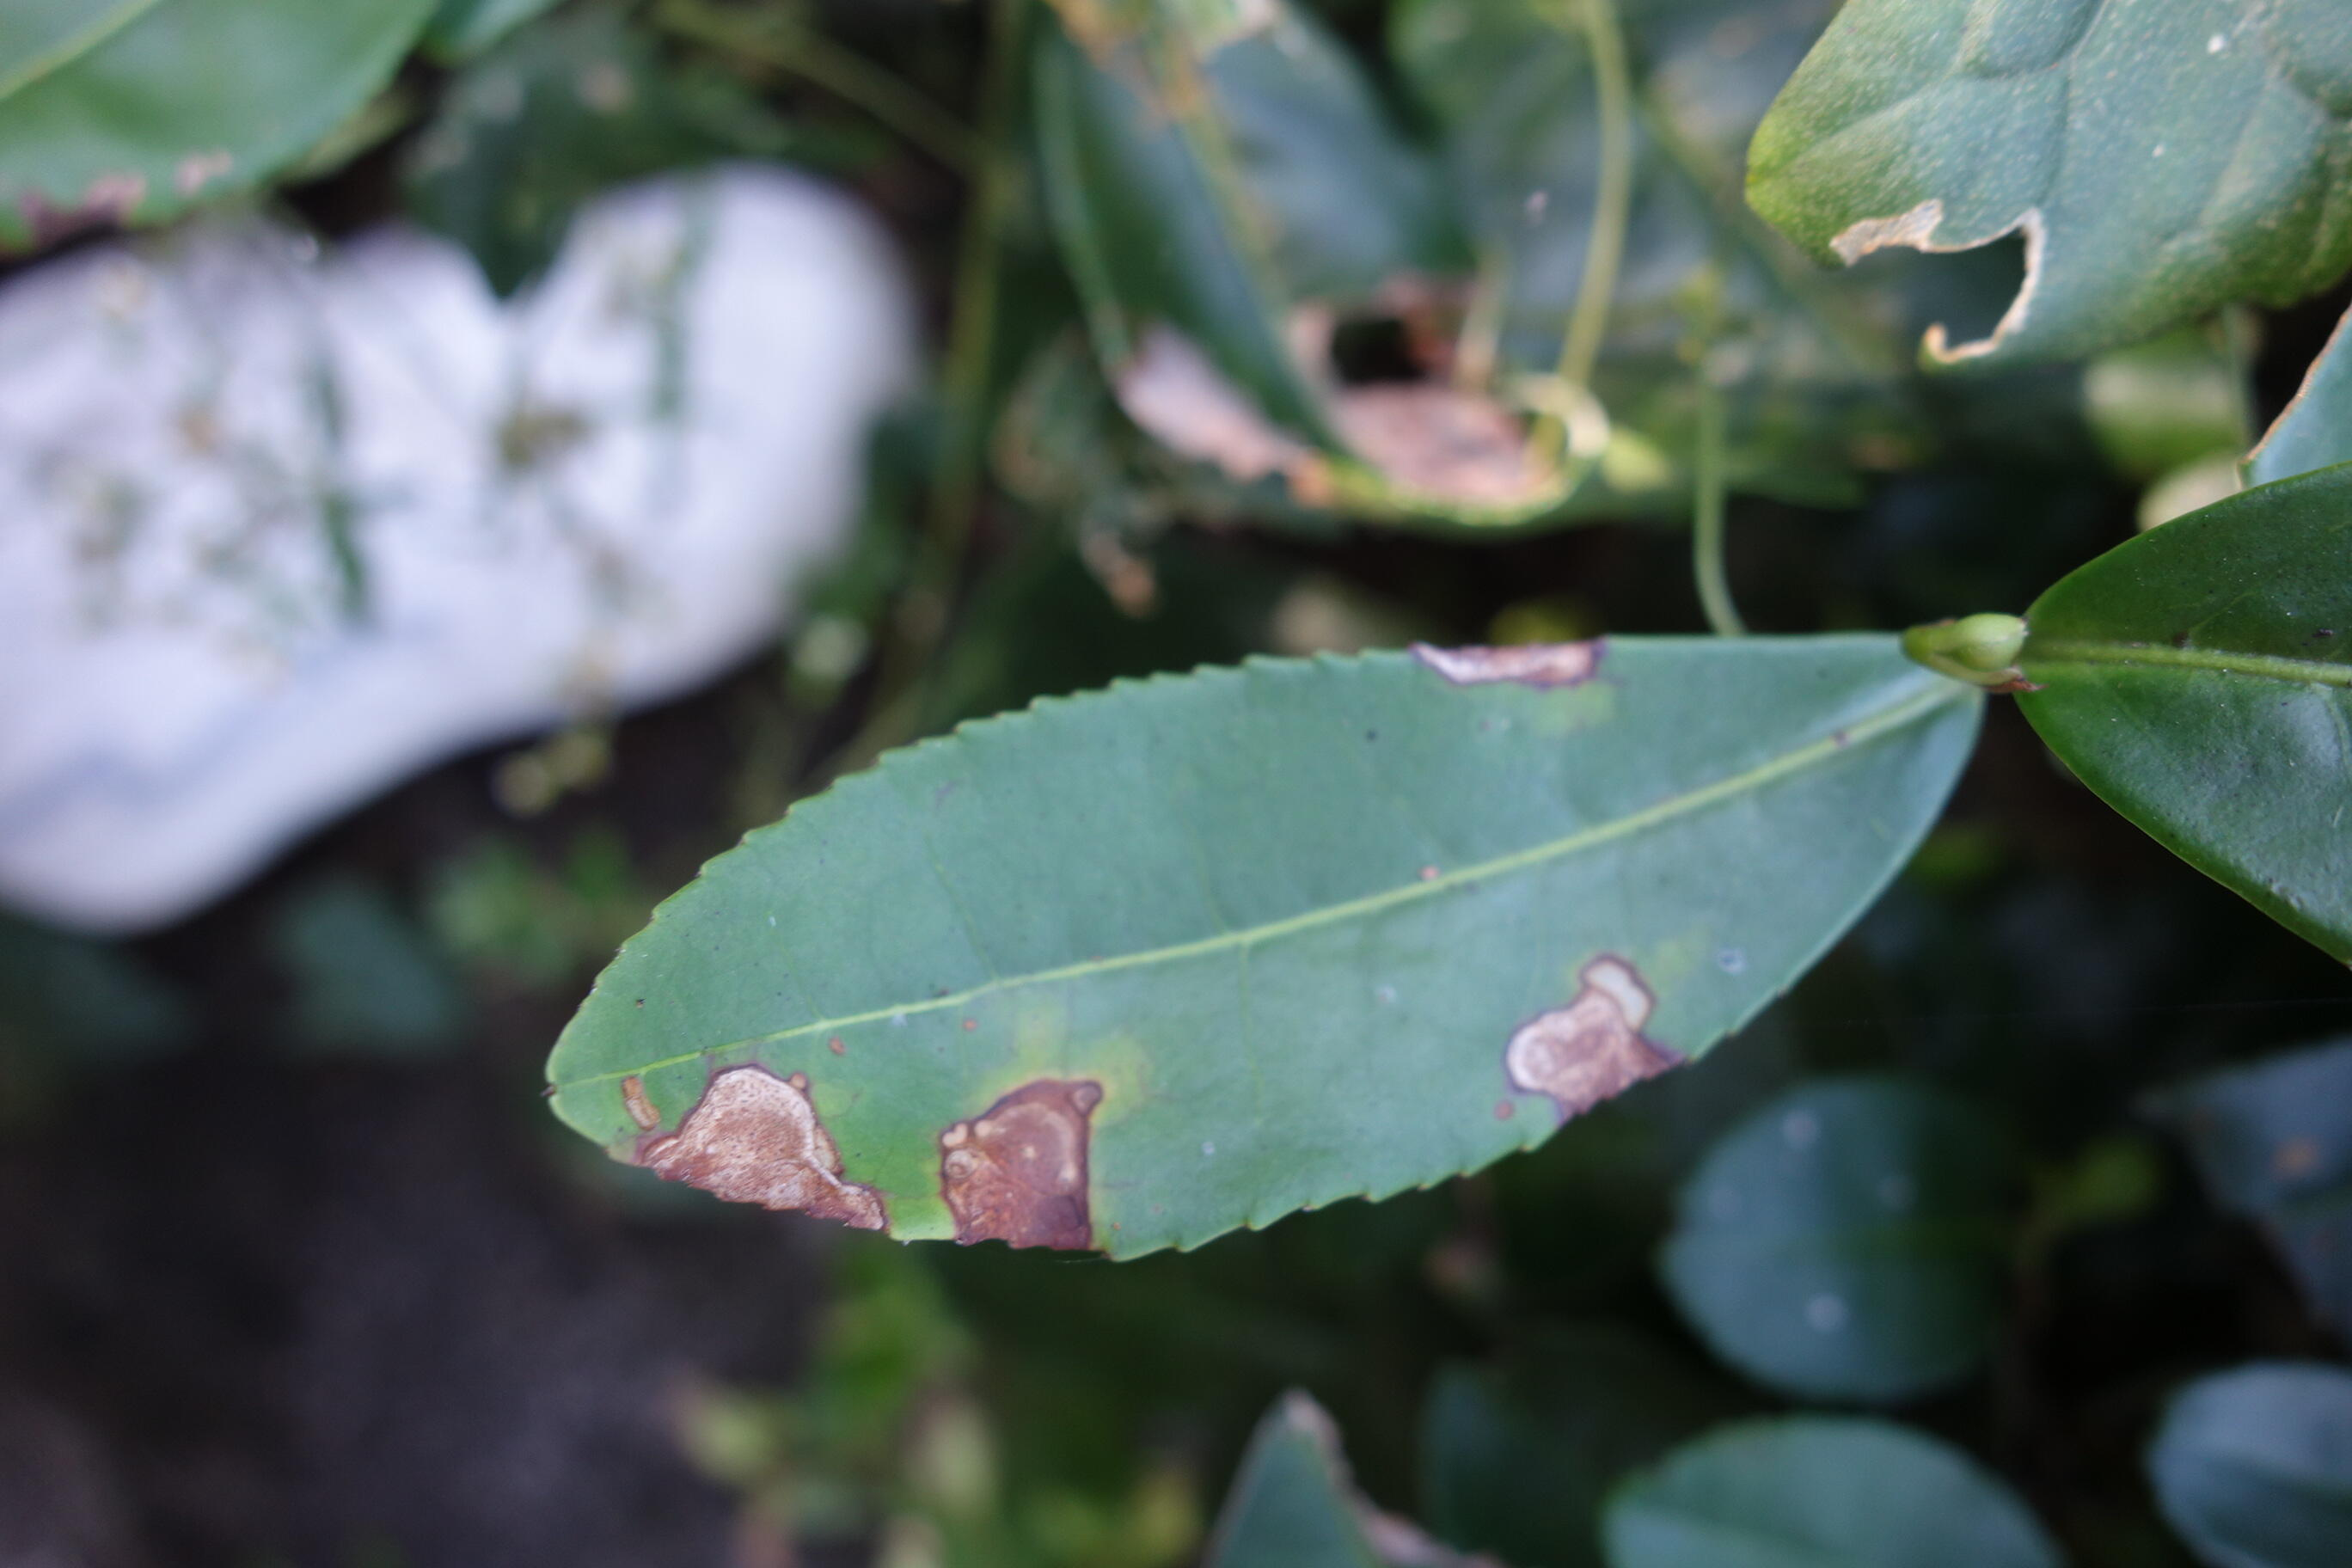tanju_high: (539, 637, 1988, 1258)
